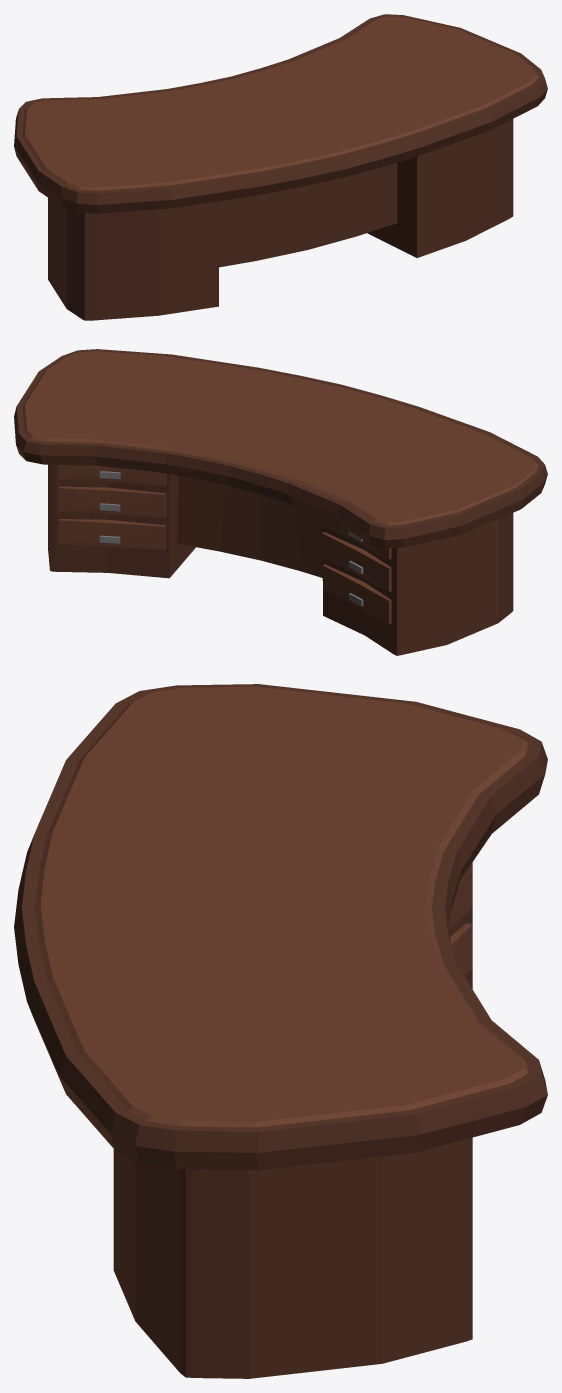
The model's file is Int_ChiefDesk01.fbx.
3 views of the same model, one above another, from view 1: azimuth 30°, elevation 25°; view 2: azimuth 150°, elevation 25°; view 3: azimuth 270°, elevation 25° (orthographic). The views are drawn at different scales.
Visible parts, largest first — view 1: Int_ChiefDesk01; view 2: Int_ChiefDesk01; view 3: Int_ChiefDesk01.
Boxes of the visible parts, bbox=[...] form: Int_ChiefDesk01: bbox=[14, 14, 547, 320]; Int_ChiefDesk01: bbox=[14, 349, 547, 655]; Int_ChiefDesk01: bbox=[14, 684, 547, 1378].
Size of what is drawn, in the model's own units: 300 by 150 by 85.
